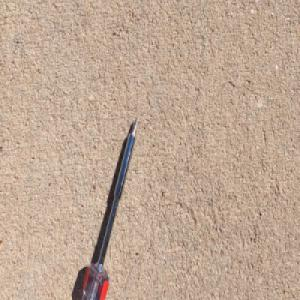Screwdriver: (77, 114, 140, 300)
